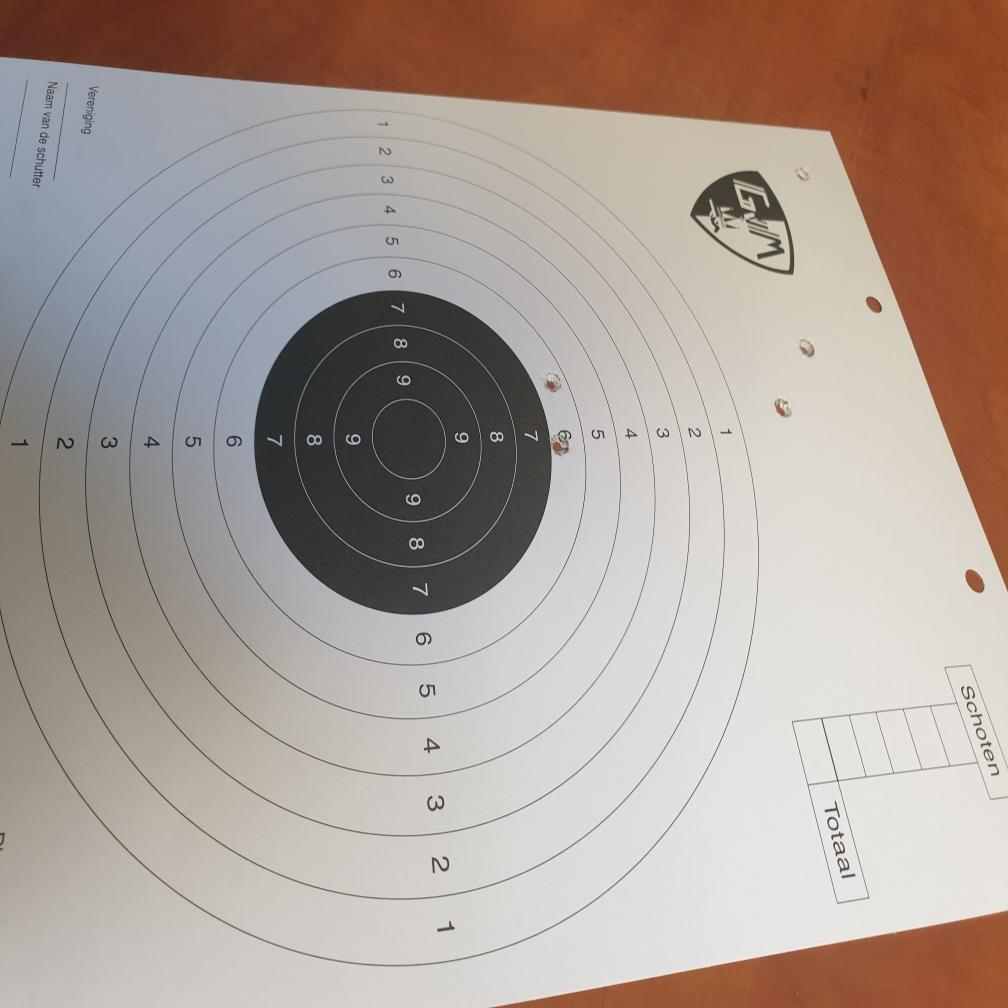0: (774, 394, 793, 420), (792, 162, 812, 186), (798, 335, 816, 359)
6: (549, 432, 570, 458), (541, 369, 562, 393)
Target: (5, 105, 761, 965)
black_contour: (254, 290, 552, 617)
